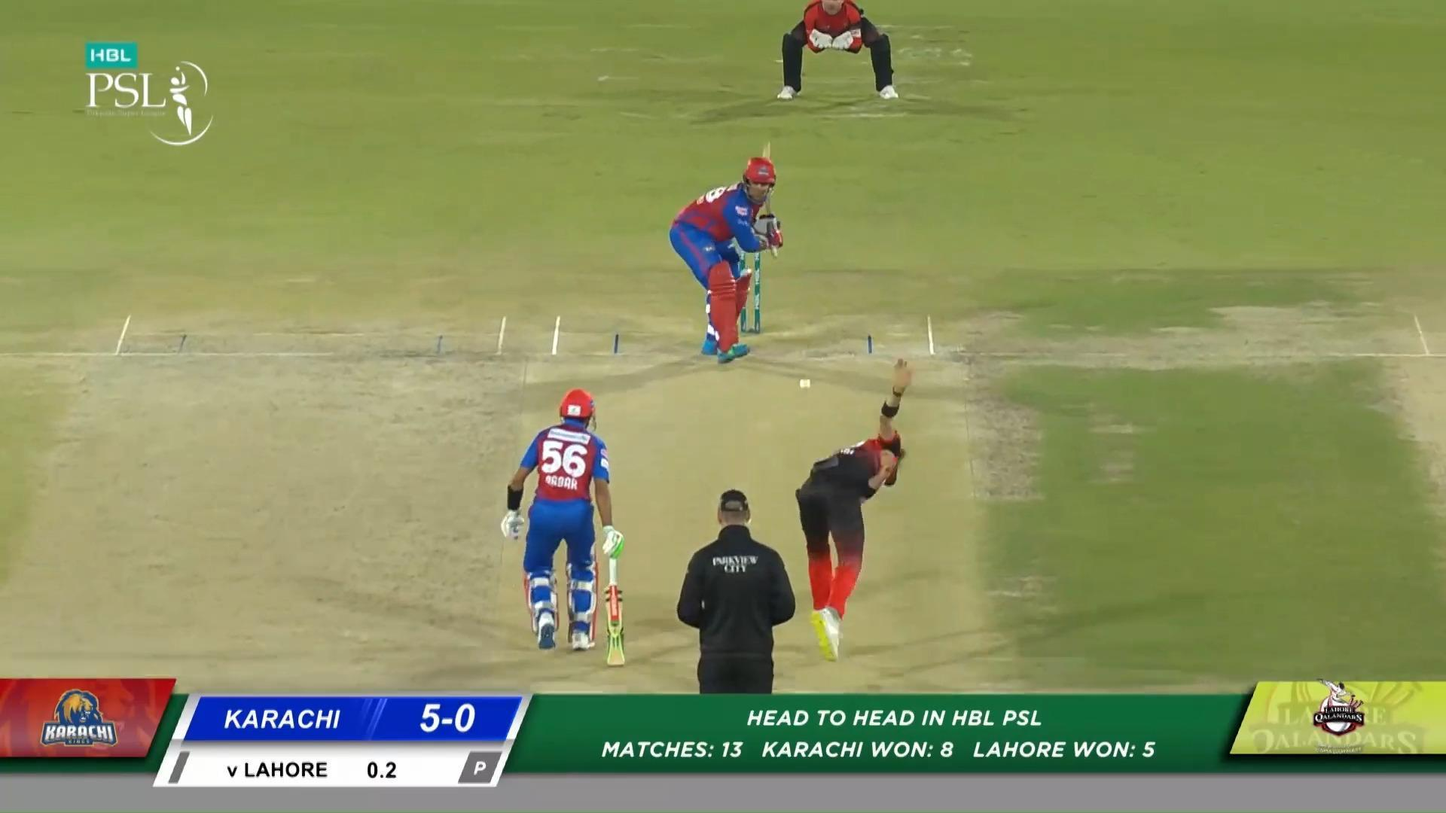BM 1: (670, 143, 785, 364)
BO: (794, 358, 914, 663)
